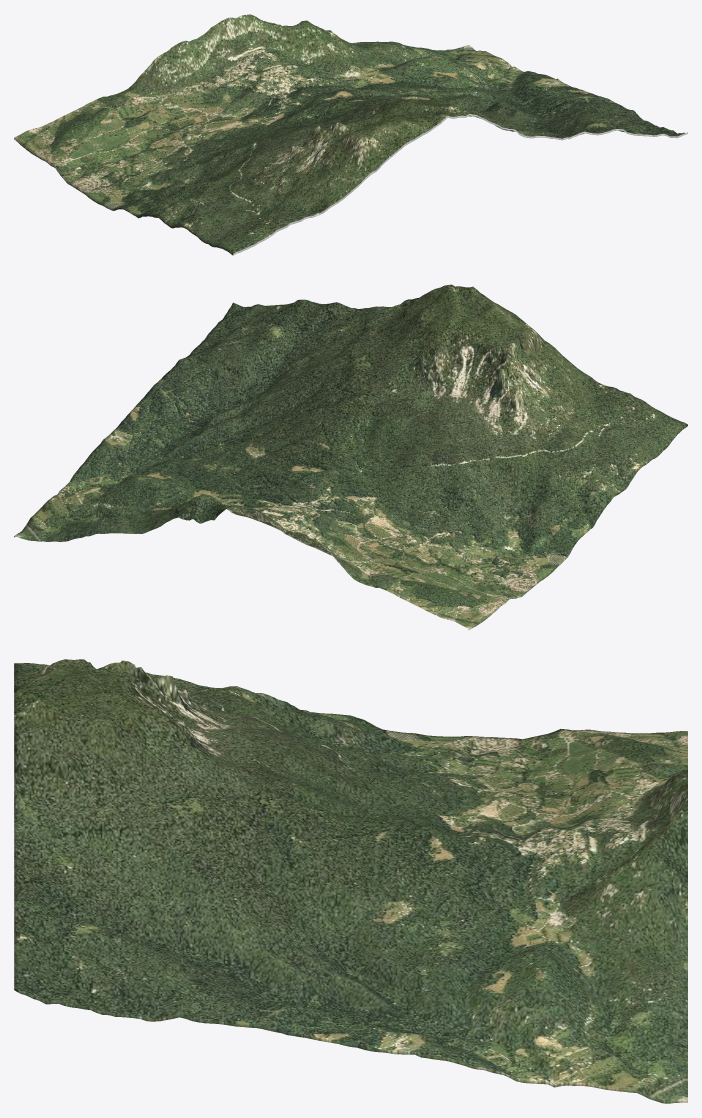
The model's file is medium.dae.
3 views of the same model, one above another, from view 1: azimuth 30°, elevation 25°; view 2: azimuth 150°, elevation 25°; view 3: azimuth 270°, elevation 25° (orthographic). The views are drawn at different scales.
Visible parts, largest first — view 1: Terrain_DEM_tile.001; view 2: Terrain_DEM_tile.001; view 3: Terrain_DEM_tile.001.
Boxes of the visible parts, x1,y1,x2,y2 form: Terrain_DEM_tile.001: (14, 14, 687, 255); Terrain_DEM_tile.001: (14, 284, 687, 630); Terrain_DEM_tile.001: (14, 659, 687, 1103).
Size of the model in its own units: 1612 by 1346 by 512.
